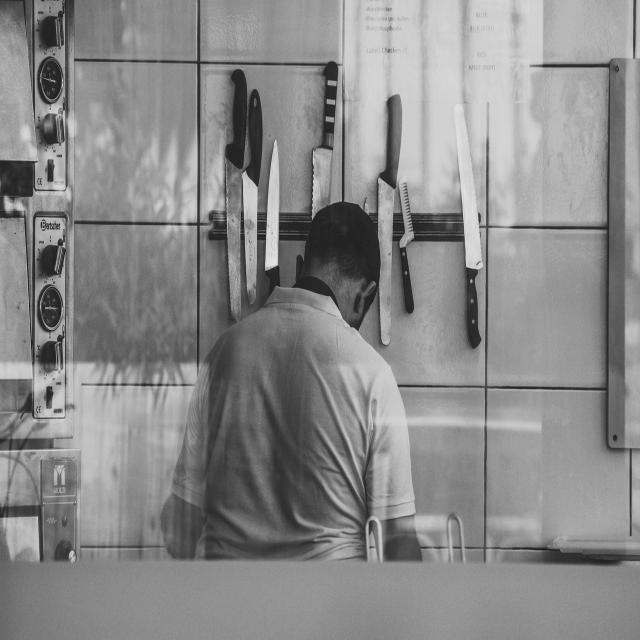Knife: (454, 105, 482, 348), (378, 95, 401, 344), (225, 69, 246, 320), (312, 62, 338, 217)
